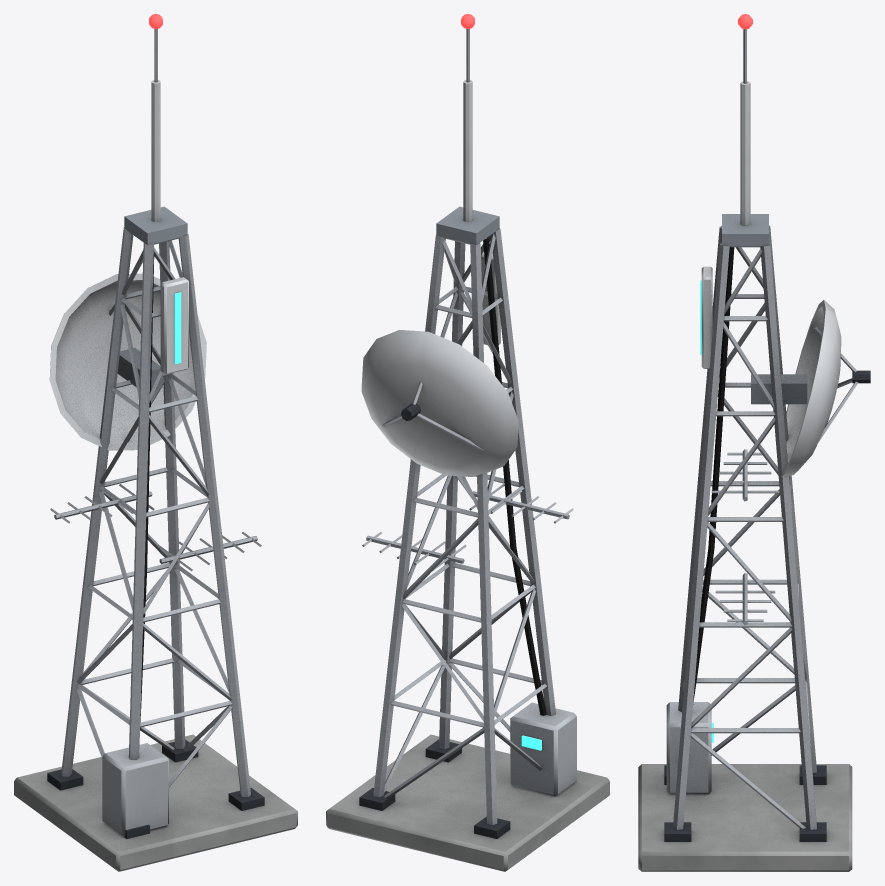
File: antena_comunicaciones.fbx
3 renders of one model, left to right at view 1: azimuth 30°, elevation 25°; view 2: azimuth 150°, elevation 25°; view 3: azimuth 270°, elevation 25°, orthographic.
Parts seen in each view (by area): view 1: antena_comunicaciones, antena_comunicaciones_neon; view 2: antena_comunicaciones; view 3: antena_comunicaciones.
Boxes of the visible parts, x1,y1,x2,y2 form: antena_comunicaciones: (14, 29, 297, 871); antena_comunicaciones_neon: (174, 292, 181, 364); antena_comunicaciones: (326, 29, 609, 871); antena_comunicaciones: (638, 29, 870, 871).
Bounding box in the file's own units: 2.1 × 7.97 × 2.06.
Materials: 2 (2 with a texture image).
